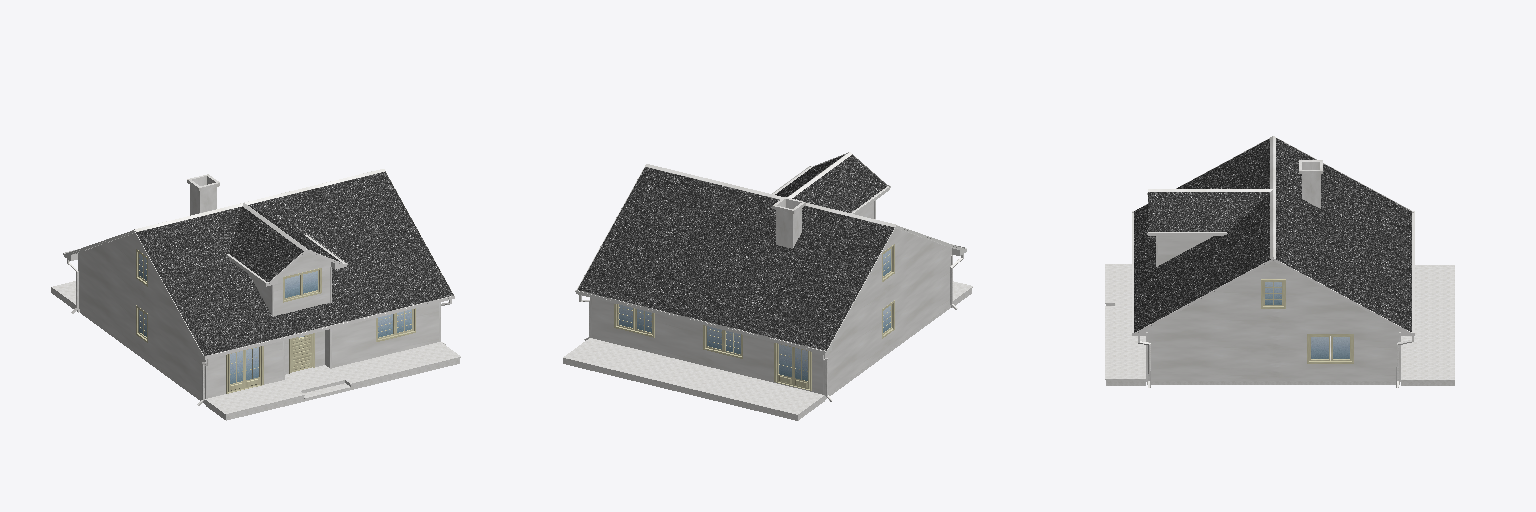
The picture shows the model from 3 angles: view 1: azimuth 30°, elevation 25°; view 2: azimuth 150°, elevation 25°; view 3: azimuth 270°, elevation 25°; orthographic projection.
Parts seen in each view (by area): view 1: Free_House_OBJ; view 2: Free_House_OBJ; view 3: Free_House_OBJ.
Part boxes in pixels (x1,y1,x2,y2): Free_House_OBJ: (51, 169, 460, 420); Free_House_OBJ: (563, 152, 972, 420); Free_House_OBJ: (1105, 136, 1454, 387).
Size of the model in its own units: 8.85 by 4.89 by 10.7.
Materials: 4 (4 with a texture image).